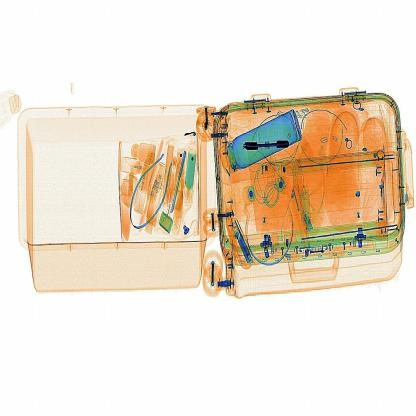knife: (234, 130, 290, 153)
